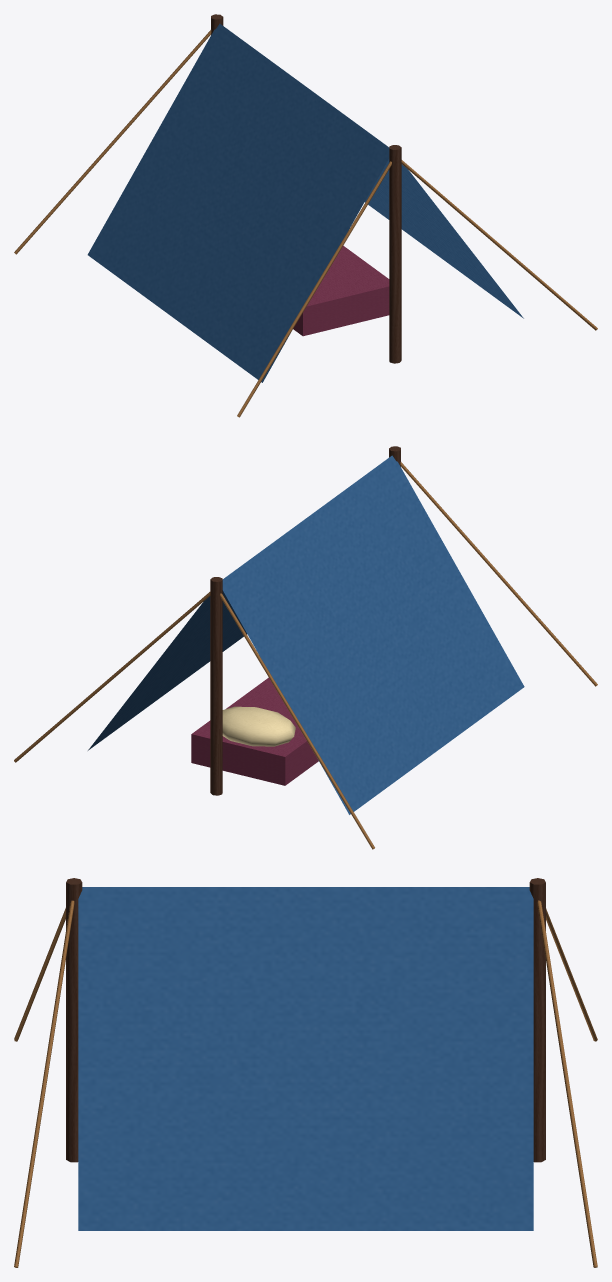
Rendered from canvas_tent.glb.
3 views of the same model, one above another, from view 1: azimuth 30°, elevation 25°; view 2: azimuth 150°, elevation 25°; view 3: azimuth 270°, elevation 25° (orthographic). The views are drawn at different scales.
Parts seen in each view (by area): view 1: canvas_tent; view 2: canvas_tent; view 3: canvas_tent.
Part boxes in pixels (bbox=[...]): canvas_tent: bbox=[14, 14, 597, 417]; canvas_tent: bbox=[14, 446, 597, 849]; canvas_tent: bbox=[14, 878, 597, 1267].
Size of the model in its own units: 2.62 by 1.48 by 2.82.
5 materials, 5 textured.
